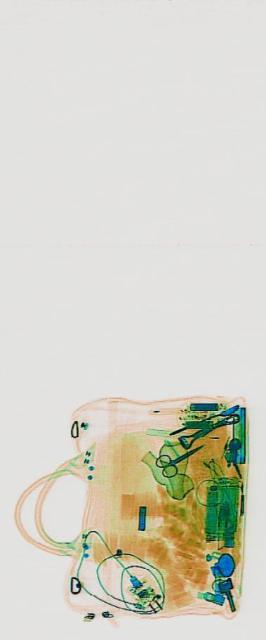Scissors: (152, 430, 203, 484)
